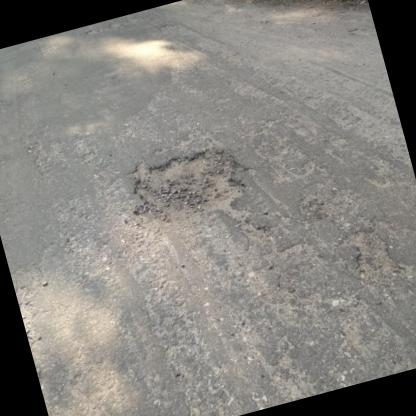pothole: (117, 134, 255, 242), (341, 224, 396, 282)
